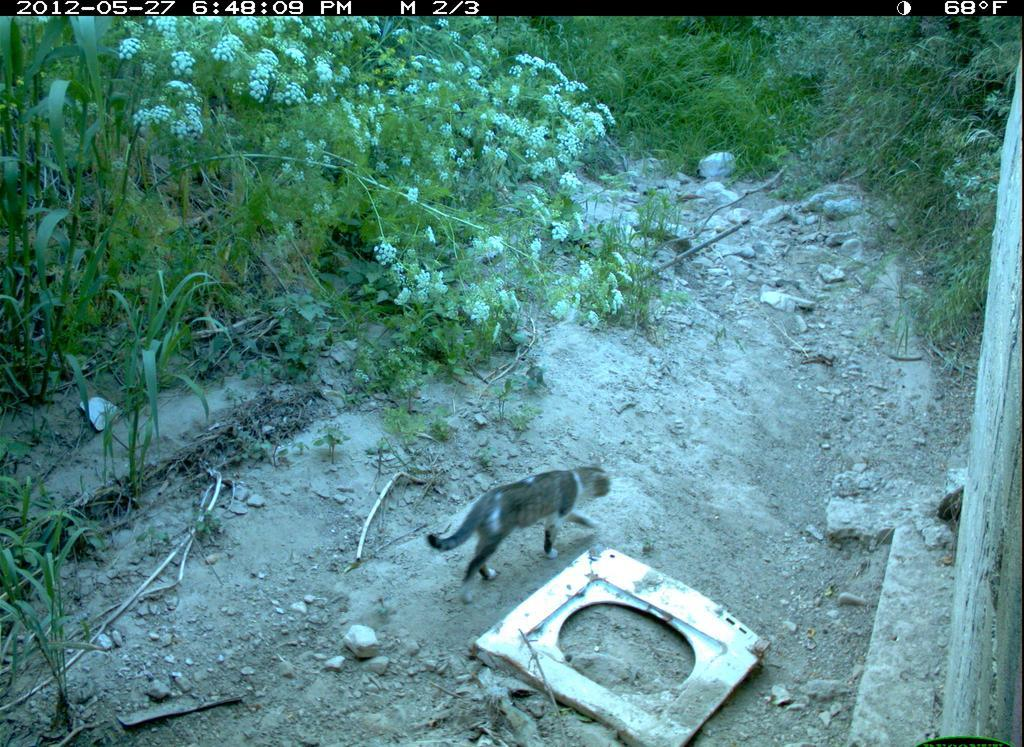cat: (413, 454, 632, 605)
